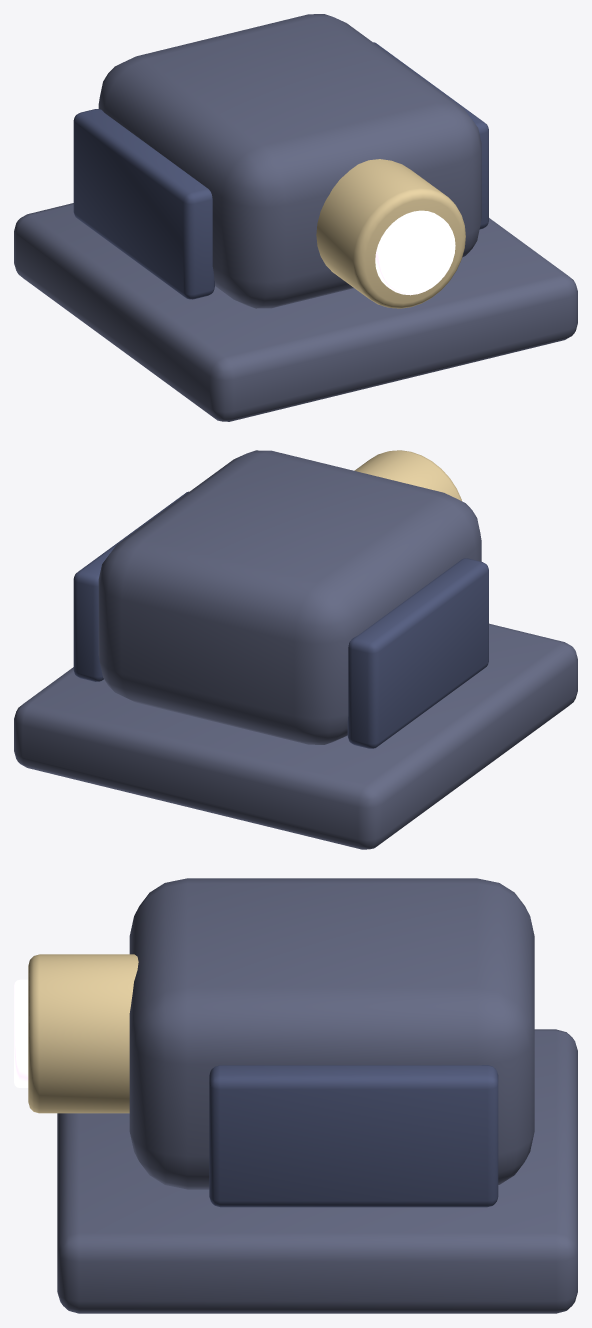
Rendered from Laser.fbx.
The picture shows the model from 3 angles, top to bottom: view 1: azimuth 30°, elevation 25°; view 2: azimuth 150°, elevation 25°; view 3: azimuth 270°, elevation 25°; orthographic projection. The views are drawn at different scales.
Visible parts, largest first — view 1: Housing, Base, FinL, Barrel, Lens, FinR; view 2: Housing, Base, FinL, FinR, Barrel; view 3: Housing, Base, FinR, Barrel, Lens.
Boxes of the visible parts, x1=… form: Housing: x1=98, y1=14, x2=481, y2=308; Base: x1=14, y1=203, x2=577, y2=421; FinL: x1=73, y1=109, x2=214, y2=299; Barrel: x1=316, y1=159, x2=465, y2=308; Lens: x1=375, y1=210, x2=455, y2=295; FinR: x1=373, y1=42, x2=488, y2=229; Housing: x1=98, y1=450, x2=481, y2=744; Base: x1=14, y1=623, x2=577, y2=849; FinL: x1=347, y1=558, x2=488, y2=748; FinR: x1=73, y1=491, x2=188, y2=681; Barrel: x1=354, y1=450, x2=461, y2=500; Housing: x1=129, y1=878, x2=534, y2=1189; Base: x1=57, y1=1029, x2=577, y2=1313; FinR: x1=209, y1=1065, x2=498, y2=1207; Barrel: x1=28, y1=954, x2=138, y2=1113; Lens: x1=14, y1=979, x2=28, y2=1087.
Bounding box in the file's own units: 0.72 × 0.42 × 0.78.
